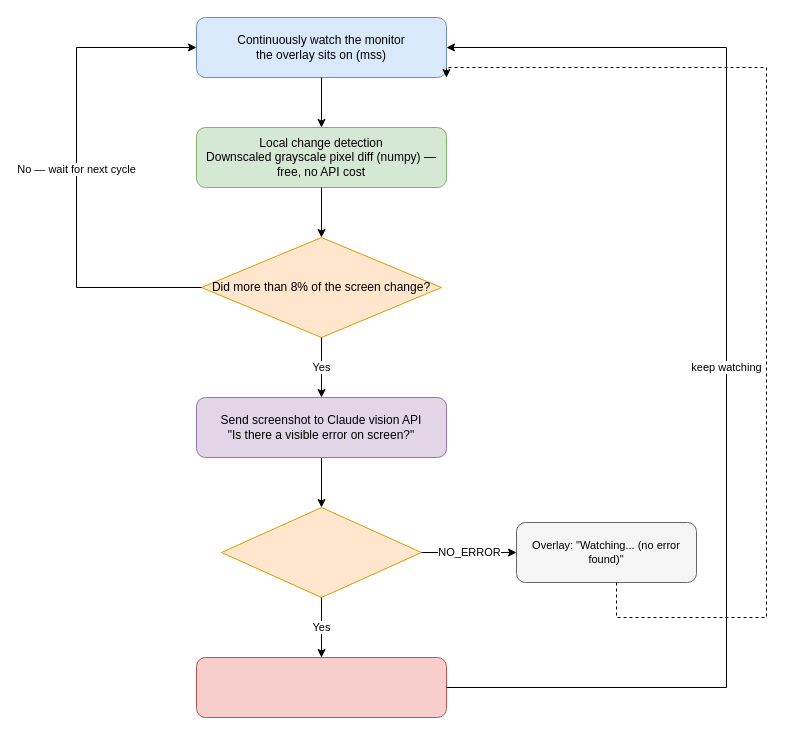
Image size: 792x735. Some labels were removed from this diagram. Here are the shapes that lost their labels. From the top down, the centre of each, then its label:
At point (321, 552): "Error found?".
At point (321, 687): "Overlay shows error + suggested fix (cooldown suppresses duplicate alerts)".
